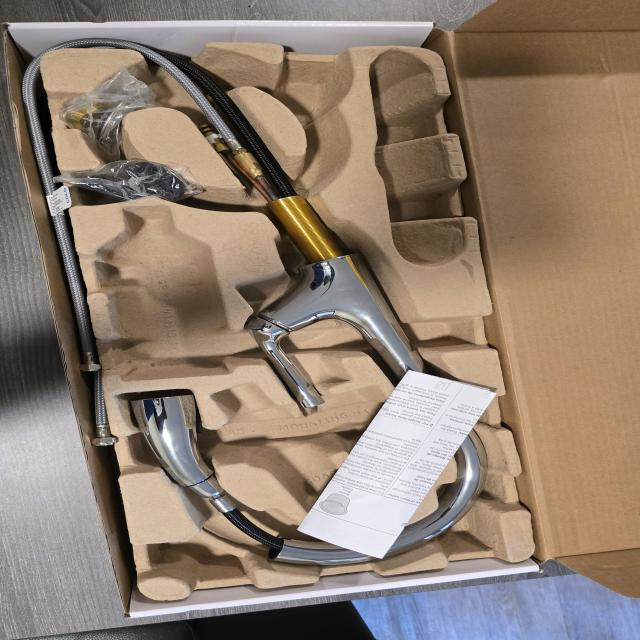1o: (129, 43, 487, 567)
2m: (210, 382, 428, 514)
3m: (95, 206, 234, 381)
4m: (374, 48, 466, 269)
5m: (274, 68, 345, 124)
6: (61, 64, 163, 157)
7: (45, 158, 207, 203)
8: (297, 368, 497, 561)
